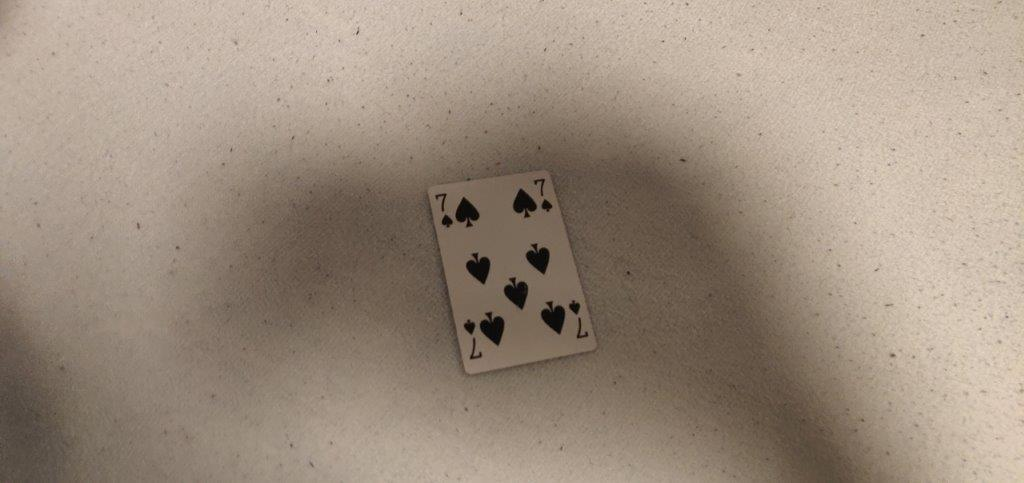7S: (532, 174, 560, 214), (431, 192, 457, 231)
